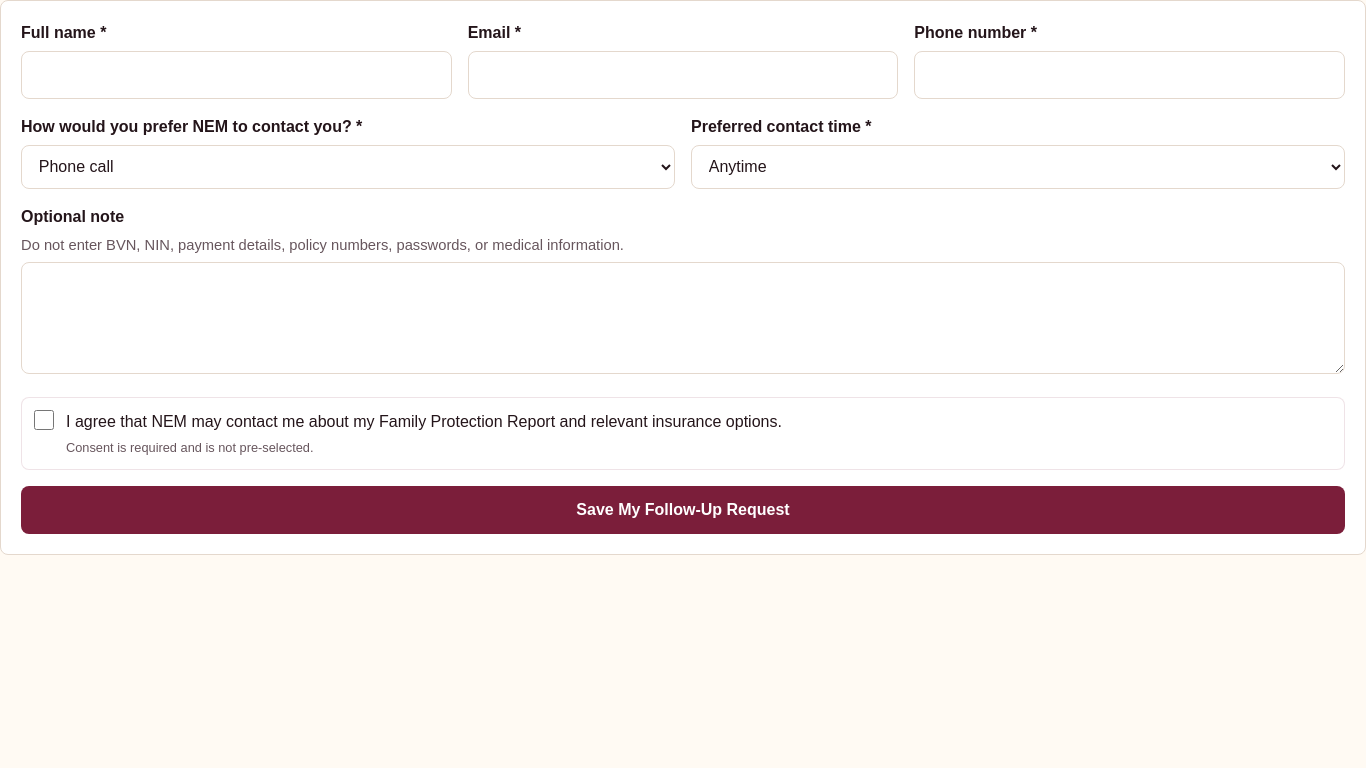
lead capture form › shows validation errors and blocks missing consent
This screenshot has width=1366, height=768.
Click the button "Save My Follow-Up Request".
click(683, 510)  # box [21, 486, 1345, 534]
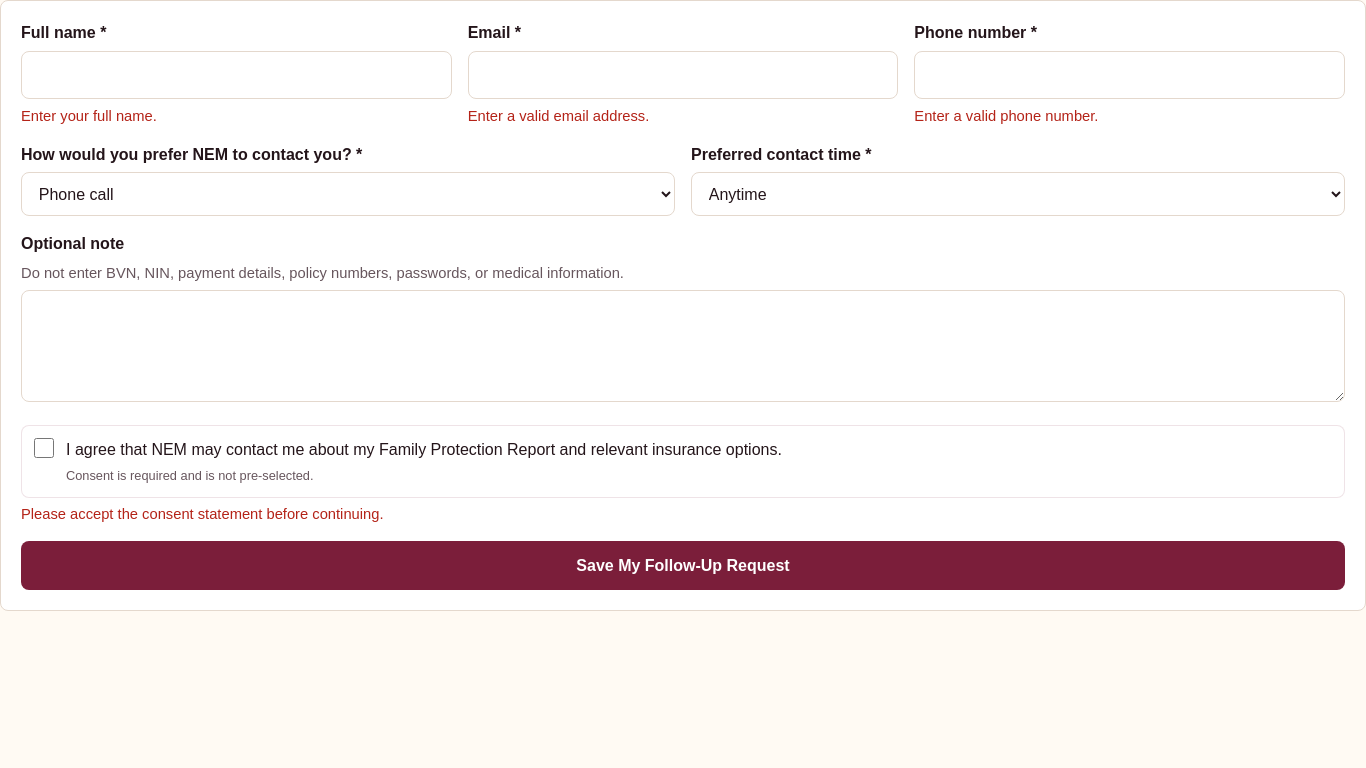
Now the text "Enter your full name." is shown, box [21, 108, 157, 124]
Now the text "Please accept the consent statement before continuing." is shown, box [21, 506, 384, 522]
